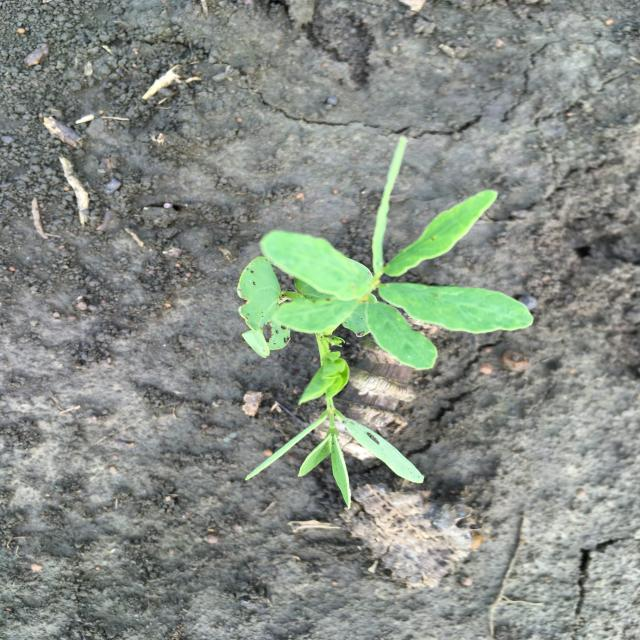Sicklepod: (234, 132, 538, 510)
